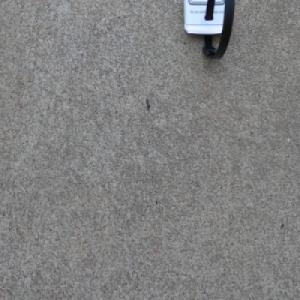LuggageTag: (181, 0, 237, 60)
